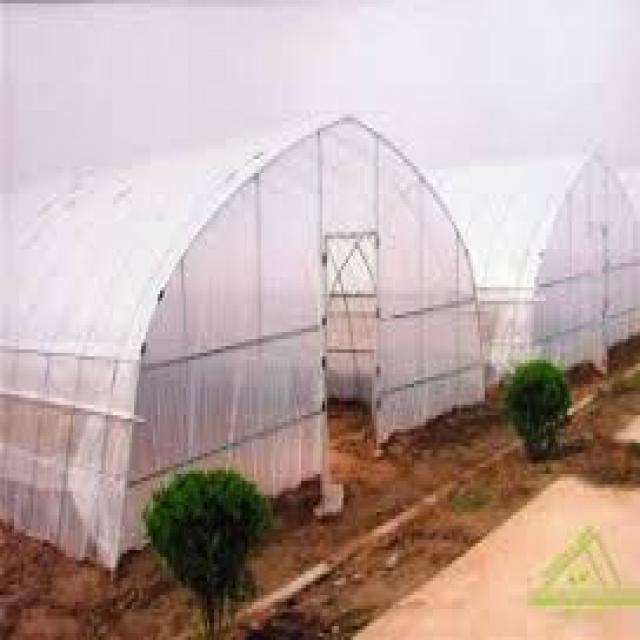organic waste: (141, 464, 273, 636), (501, 359, 567, 456)
